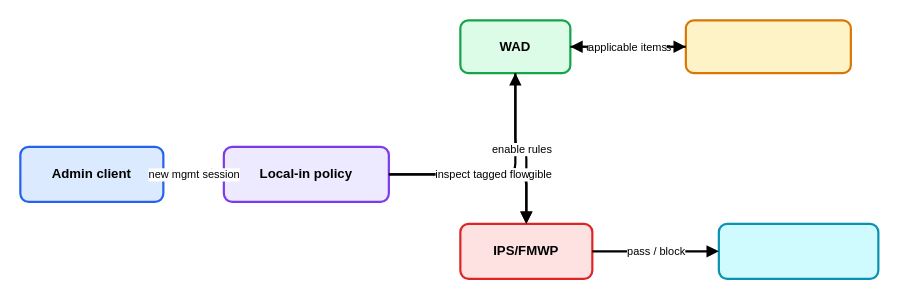
The diagram is 898 pixels wide and 298 high, and some of its shapes have lost their labels. Here are the shapes that lost their labels. From the top down, the box of each, then its label:
(684, 19, 851, 74): FortiGuard API
(717, 222, 879, 279): GUI / SSH service
